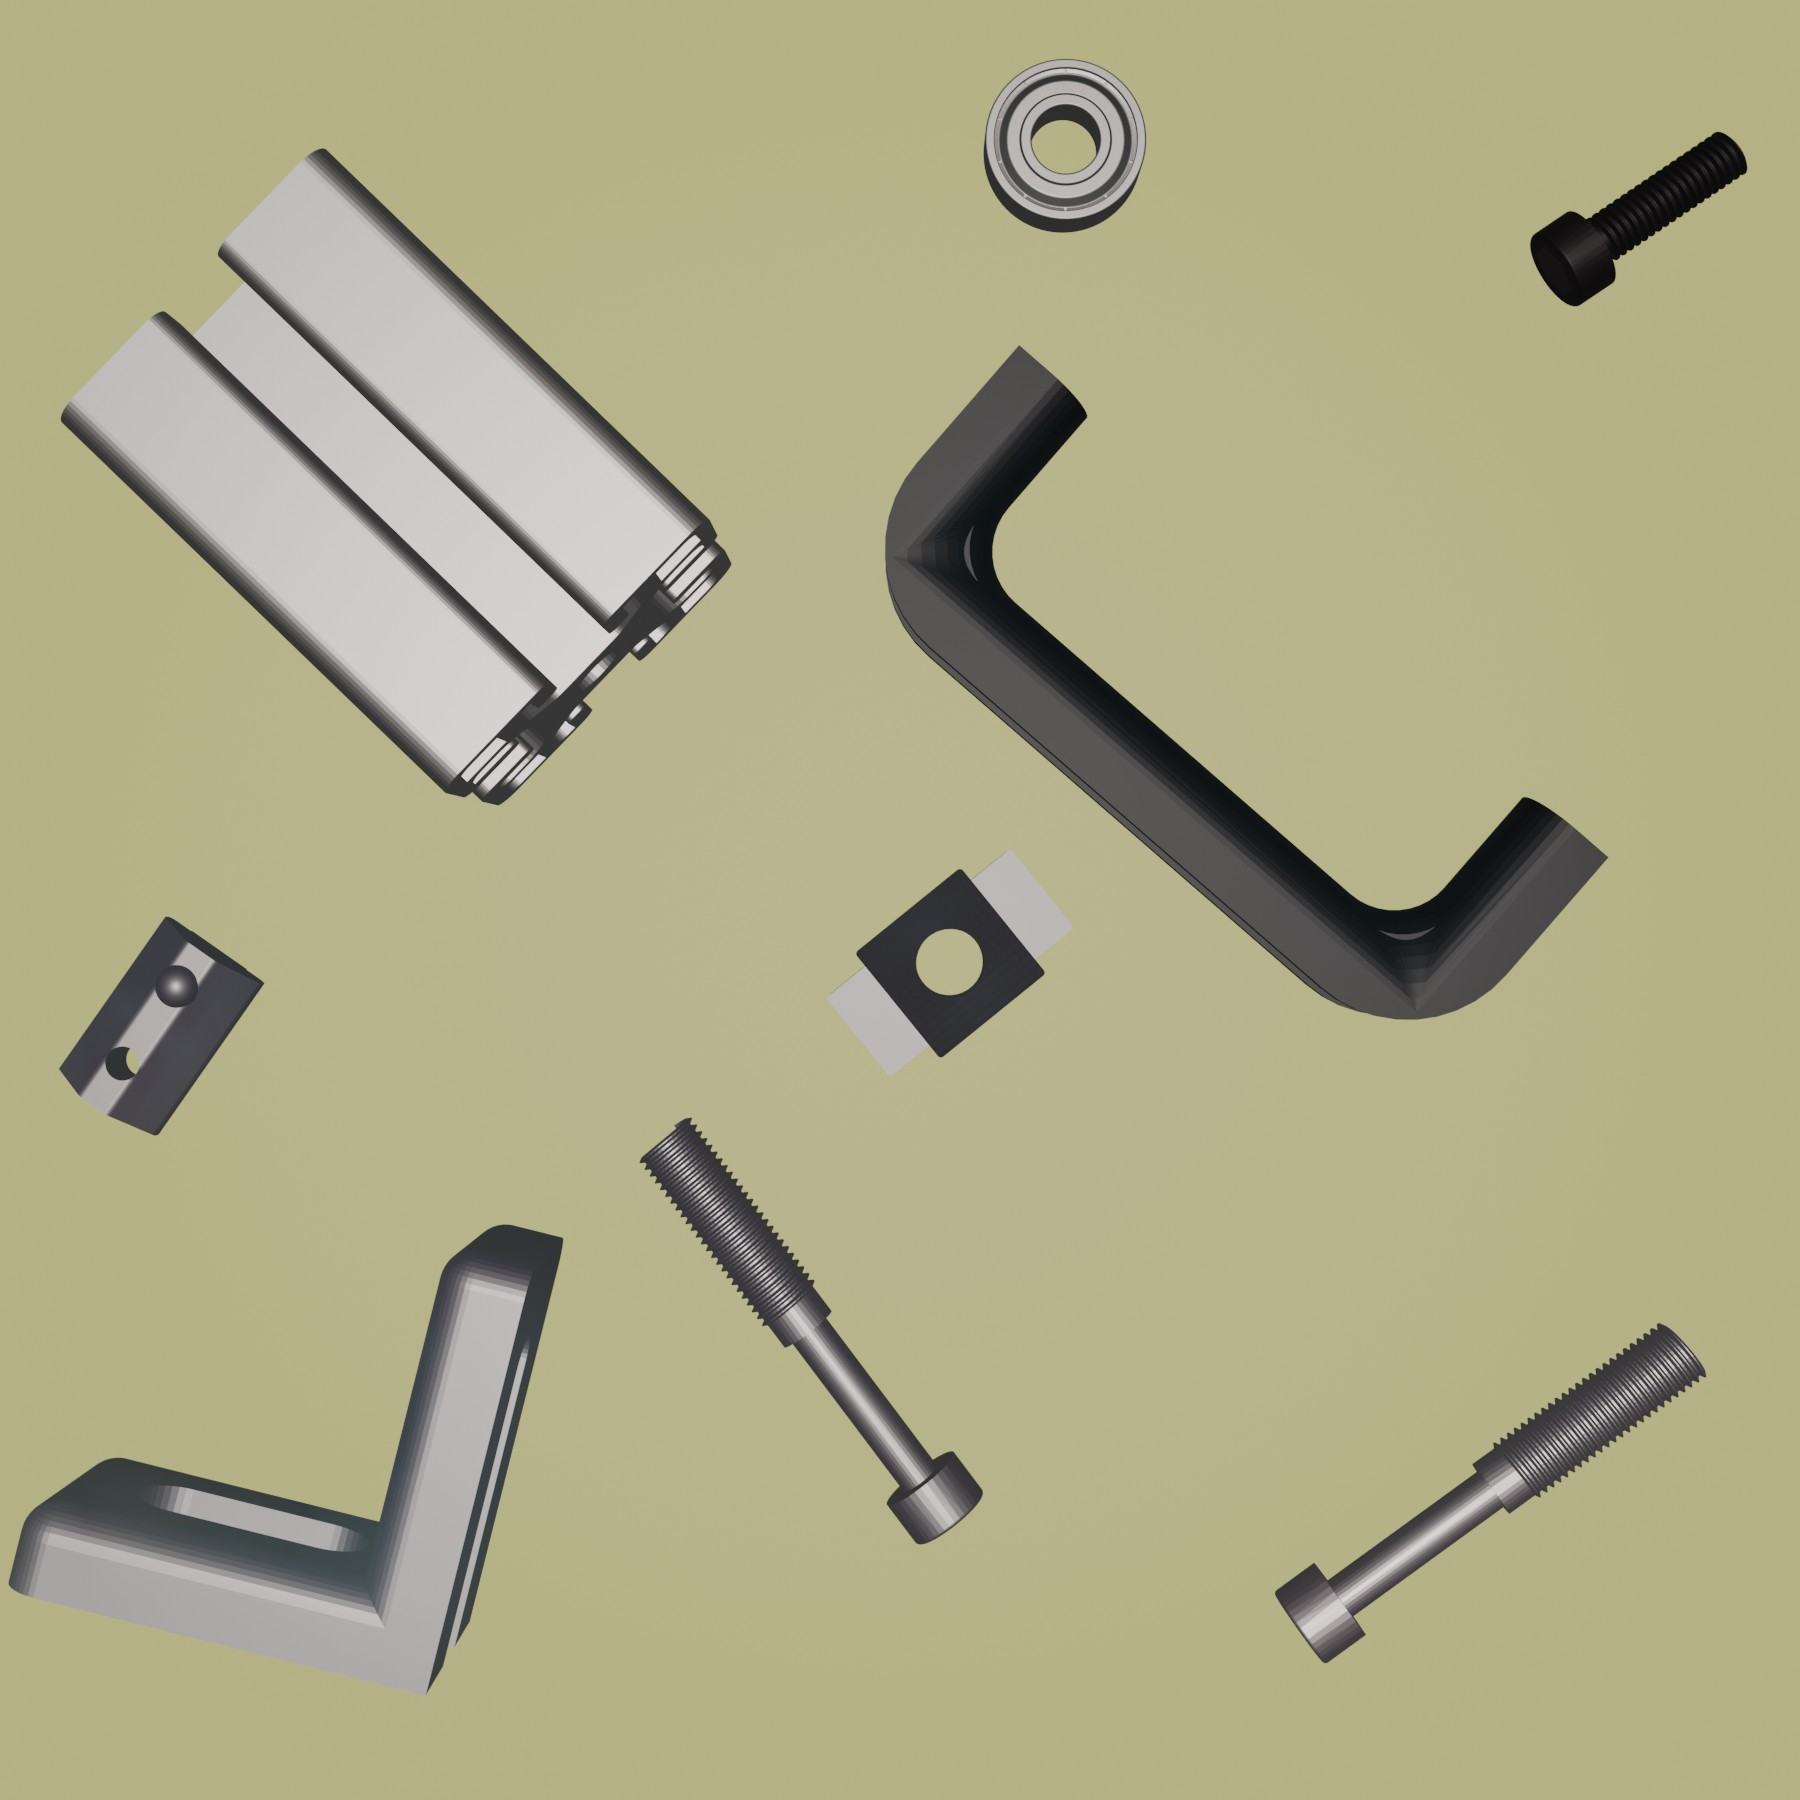Aluminium Extension: (56, 147, 734, 809)
Ball Bearing: (981, 58, 1147, 236)
Multiwinkel: (5, 1221, 565, 1699)
Pull Handle: (880, 341, 1610, 1022)
Shoulder Socket Head Cap Screw: (1271, 1320, 1709, 1666), (640, 1114, 986, 1548)
Socket Head Cap Screw: (1530, 127, 1751, 308)
T Nut Square: (821, 847, 1078, 1081)
T Spring Nut: (59, 912, 265, 1136)
